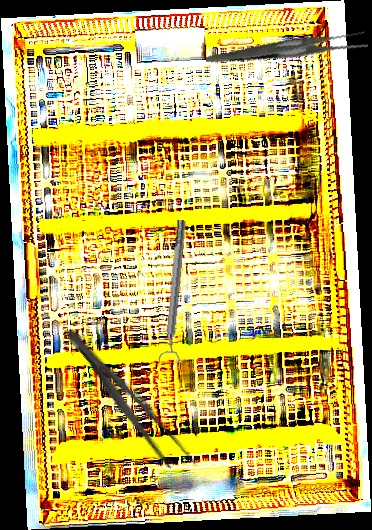Dressing Forceps: (55, 320, 202, 483), (205, 2, 371, 92)
Fixation Ring: (156, 219, 195, 364)
